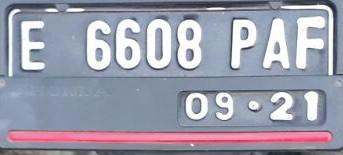clone-license-plate: (7, 3, 336, 130)
